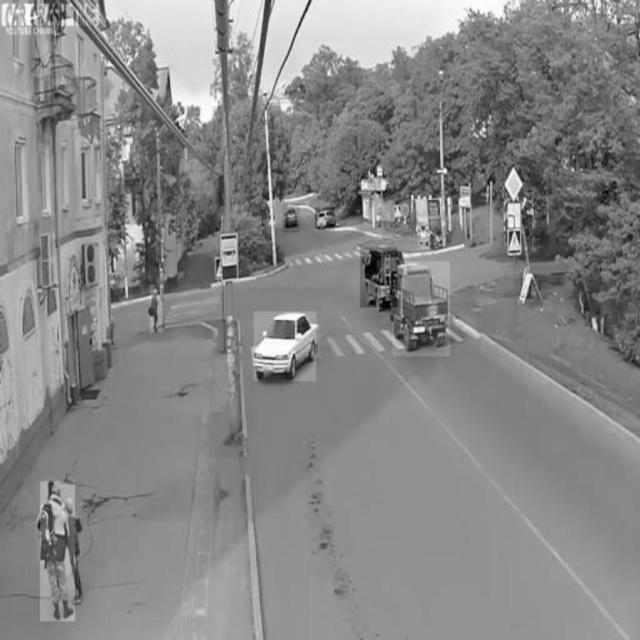person: (40, 481, 76, 621), (150, 285, 164, 332)
vehicle: (393, 261, 450, 355), (255, 312, 317, 382), (361, 248, 398, 308), (283, 204, 300, 232), (315, 208, 335, 228)
